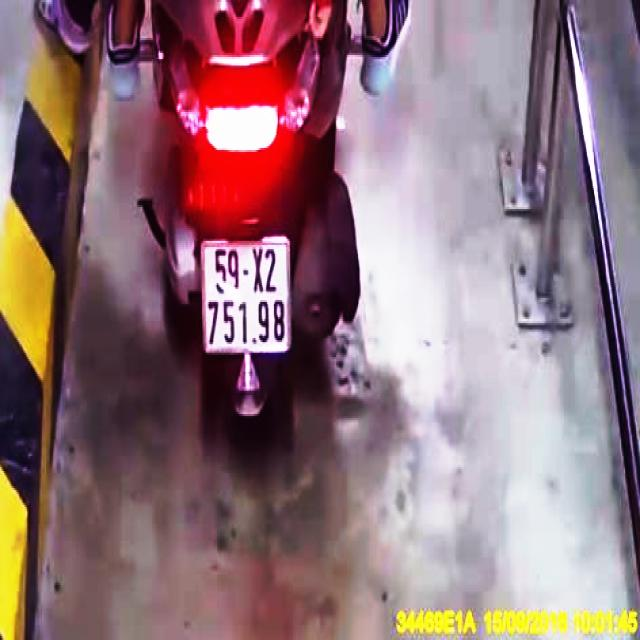license_plate: (200, 239, 292, 357)
